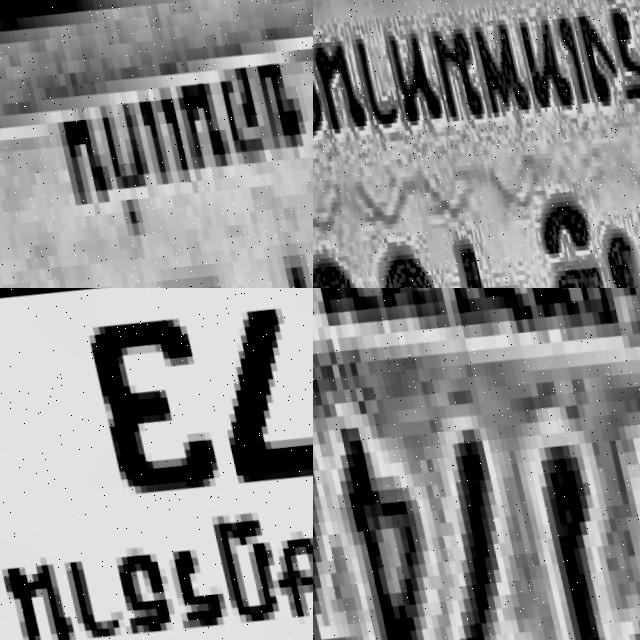license-plate: (313, 288, 640, 640), (0, 288, 313, 640), (313, 0, 640, 288), (0, 0, 313, 288)
